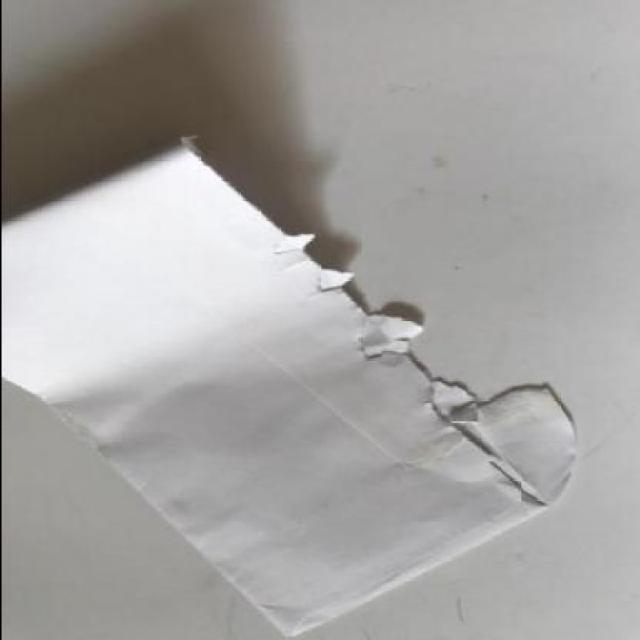PAPER: (1, 138, 578, 639)
